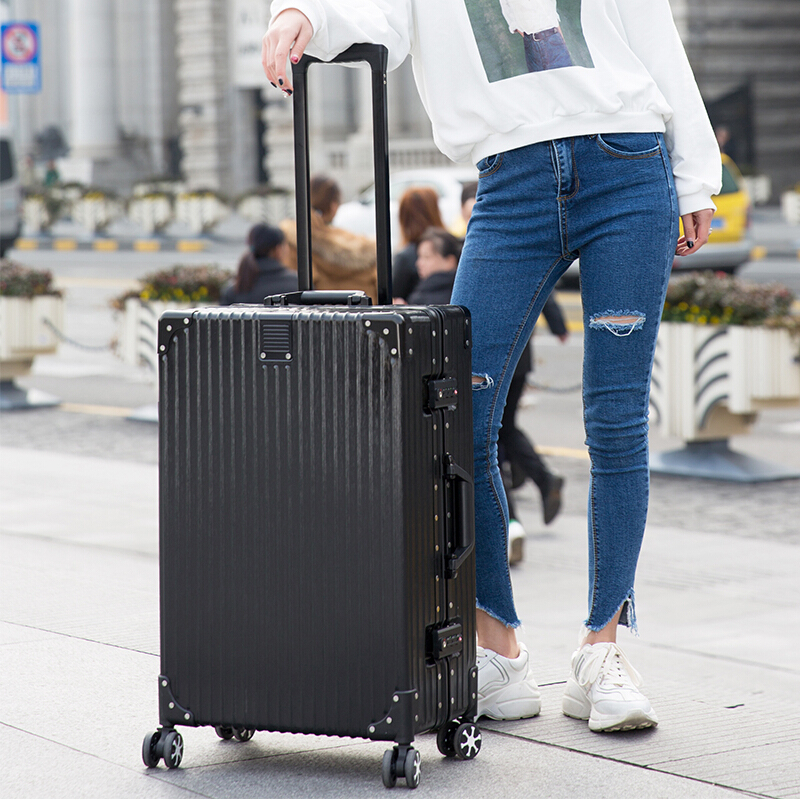box: (158, 304, 476, 741)
handle: (443, 452, 475, 578), (264, 289, 372, 307)
lock: (435, 623, 464, 657), (429, 379, 460, 409)
wheel: (436, 721, 483, 759), (141, 730, 185, 770), (381, 748, 422, 790)
